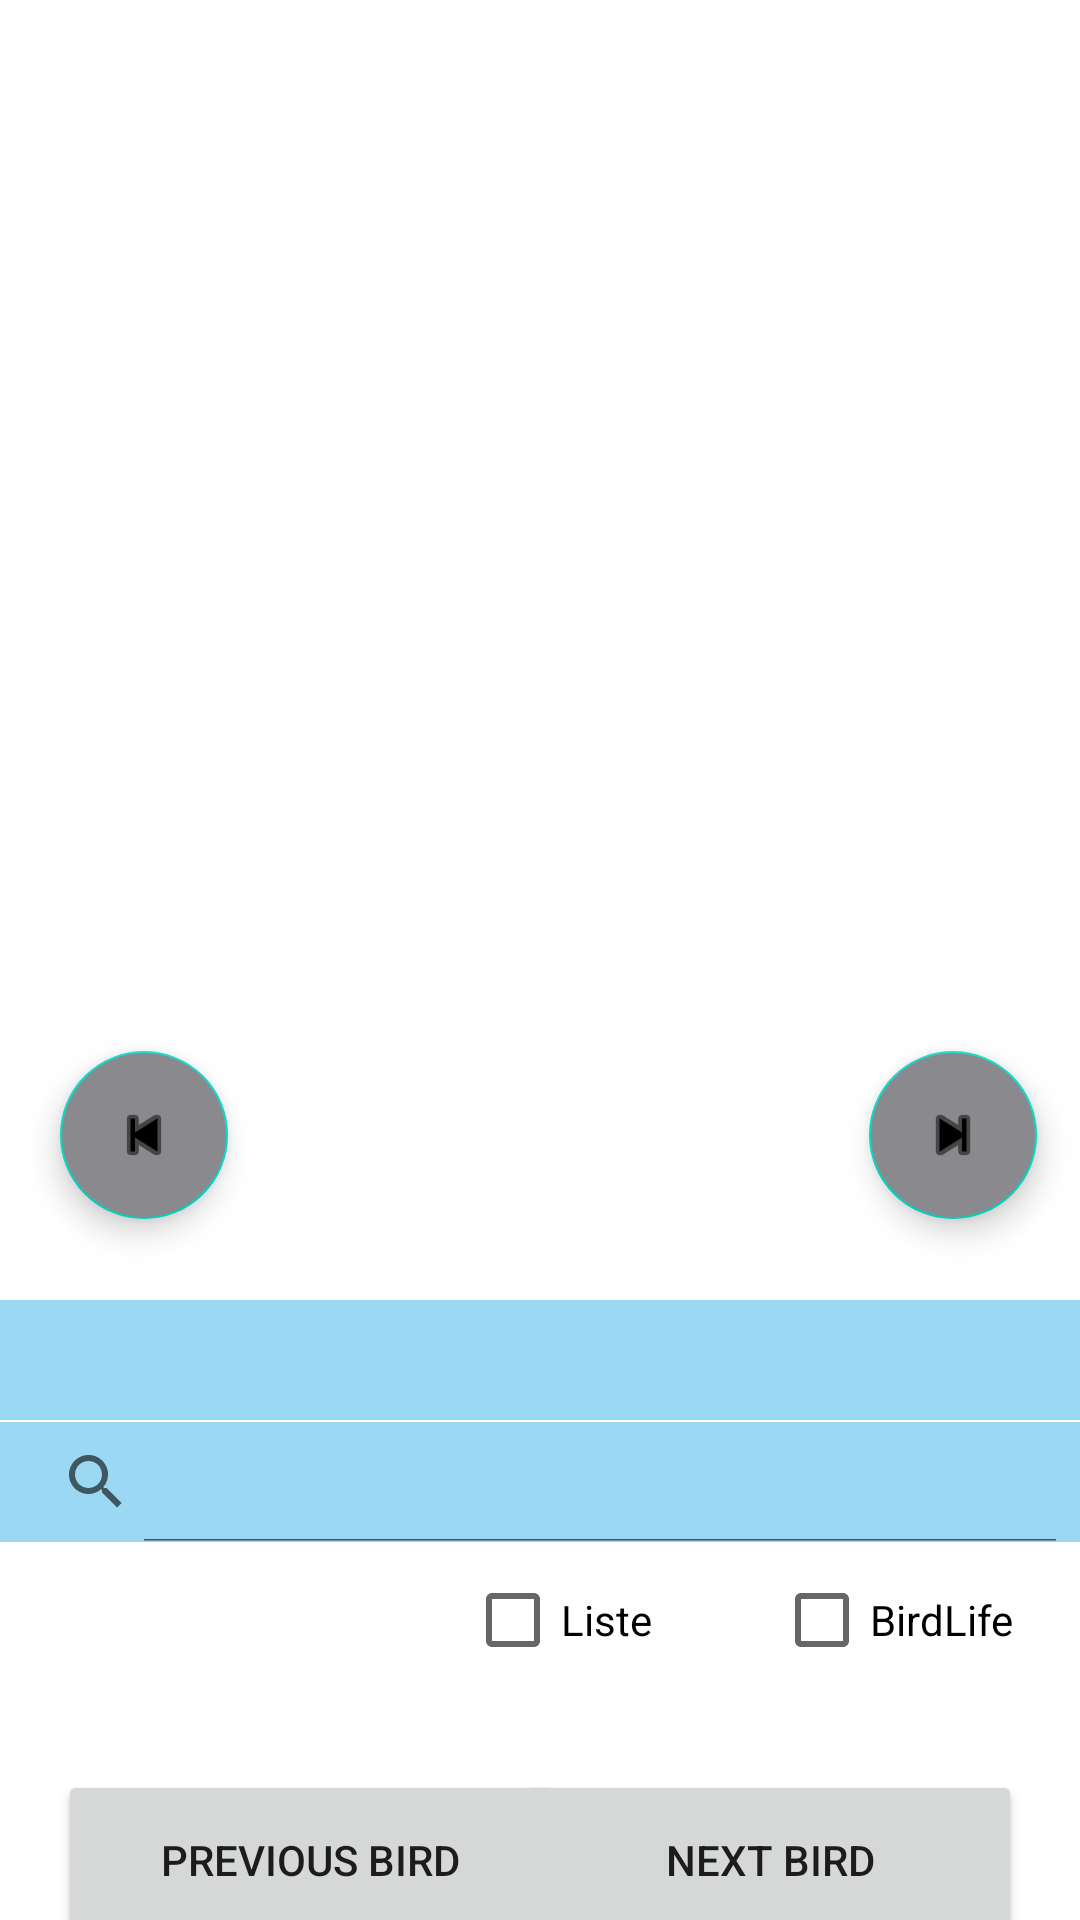

Locate icon controls on the screen. Image size 1080 × 1920, boxes as (x1, y1, x2, y2).
next: (869, 1051, 1037, 1219)
previous: (60, 1051, 228, 1219)
